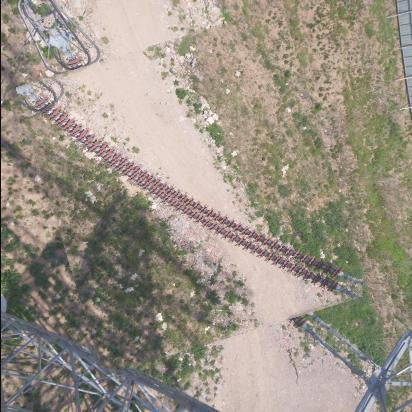insulator: (35, 25, 352, 361)
